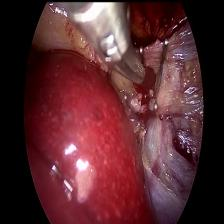Scissors: (76, 0, 146, 86)
